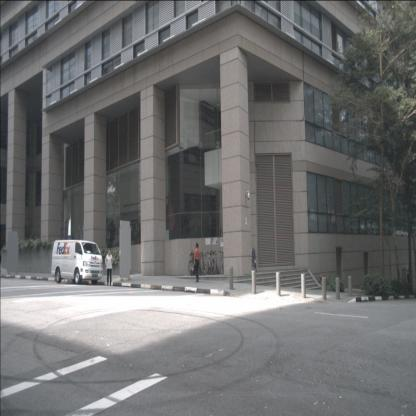human-pedestrian-adult: (193, 243, 201, 282), (105, 249, 113, 286), (406, 262, 412, 289)
vehicle-bicycle: (250, 247, 257, 273)
vehicle-car: (51, 240, 103, 285)
